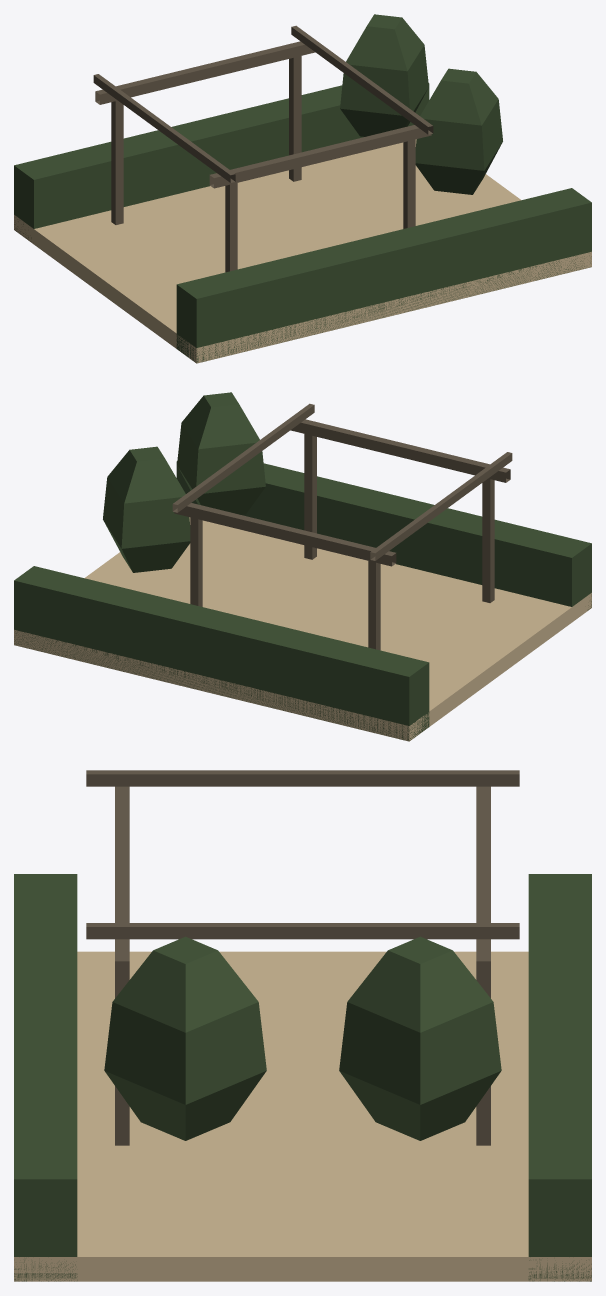
File: roofprop.fbx
The picture shows the model from 3 angles, top to bottom: view 1: azimuth 30°, elevation 25°; view 2: azimuth 150°, elevation 25°; view 3: azimuth 270°, elevation 25°; orthographic projection. The views are drawn at different scales.
Parts seen in each view (by area): view 1: a2019/500/roofprop; view 2: a2019/500/roofprop; view 3: a2019/500/roofprop.
Boxes of the visible parts, bbox=[...] form: a2019/500/roofprop: bbox=[14, 14, 591, 363]; a2019/500/roofprop: bbox=[14, 392, 591, 741]; a2019/500/roofprop: bbox=[14, 770, 591, 1281].
Bounding box in the file's own units: 8 × 3.3 × 6.4.
